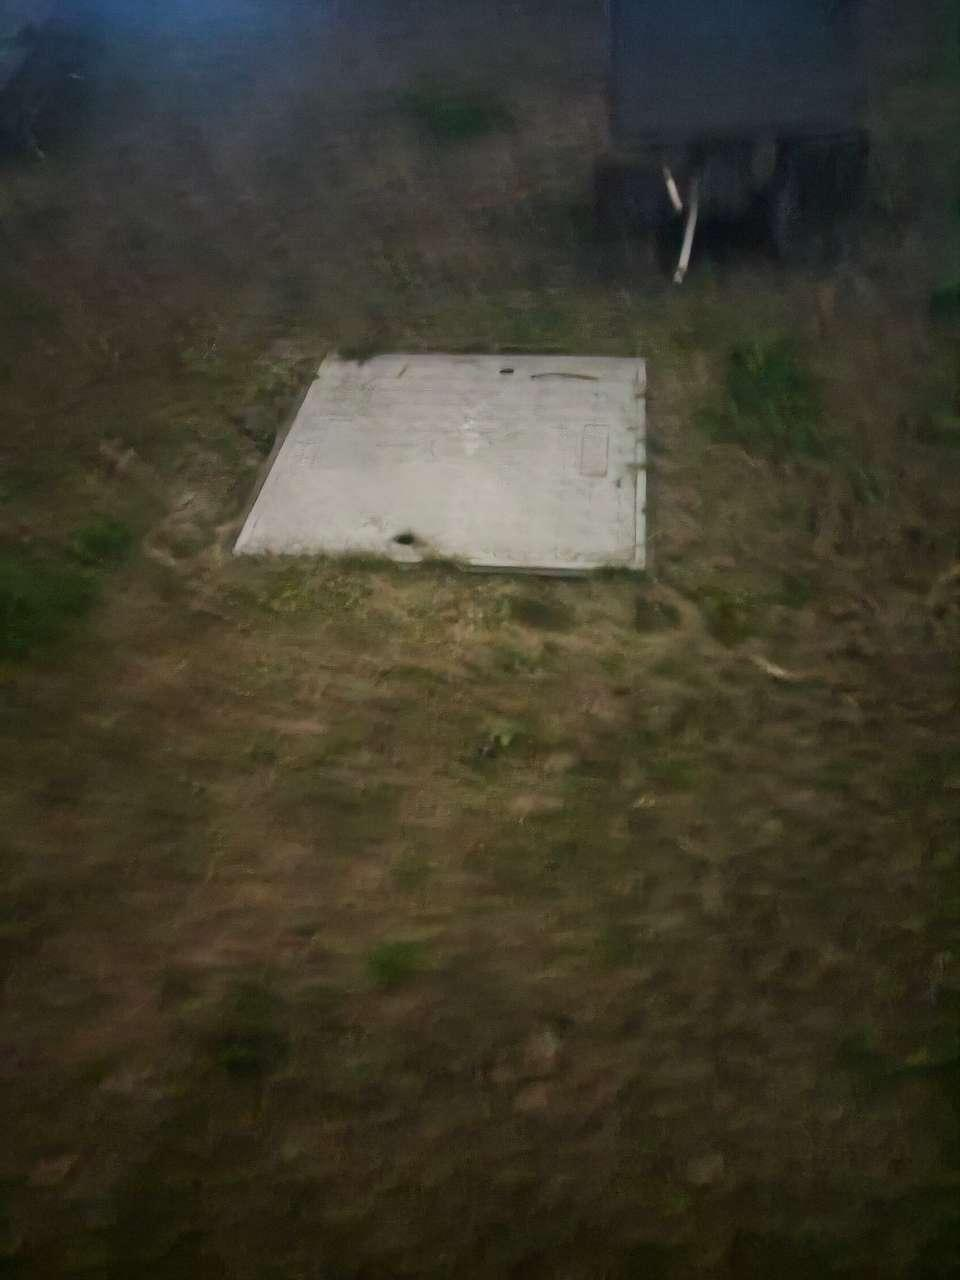wellcover: (231, 326, 687, 592)
